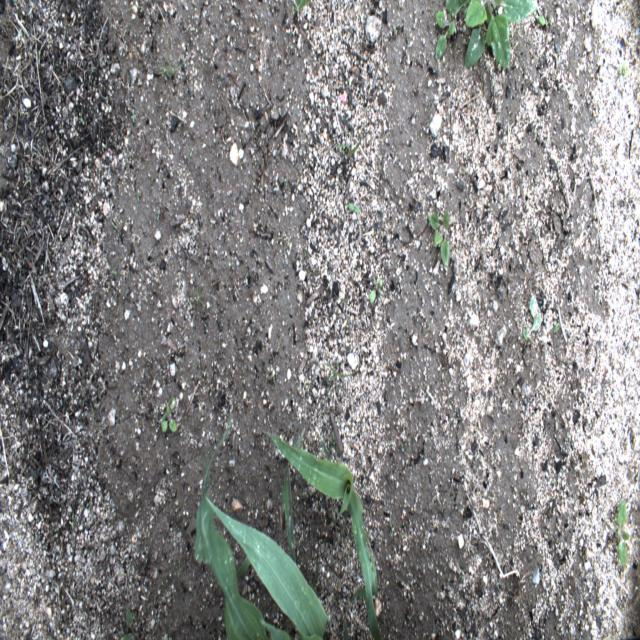crop: (196, 424, 330, 636), (269, 434, 382, 639)
weed: (433, 0, 537, 69), (157, 34, 187, 80), (428, 210, 451, 268), (520, 288, 544, 342), (612, 498, 630, 569), (161, 393, 178, 434), (119, 606, 136, 640), (368, 277, 385, 306), (328, 364, 346, 385), (339, 143, 360, 159), (536, 13, 553, 26), (347, 200, 361, 212), (618, 61, 629, 76), (25, 168, 32, 183), (552, 321, 560, 333), (18, 28, 24, 39), (286, 236, 290, 248)
